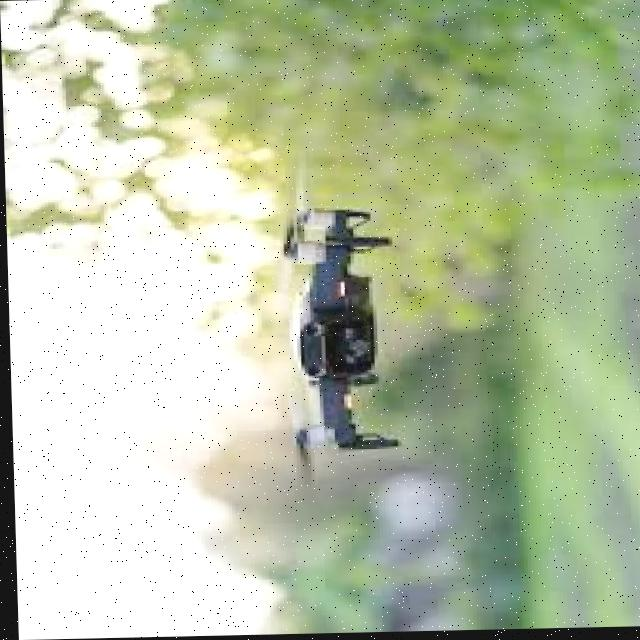drone: (247, 168, 421, 495)
